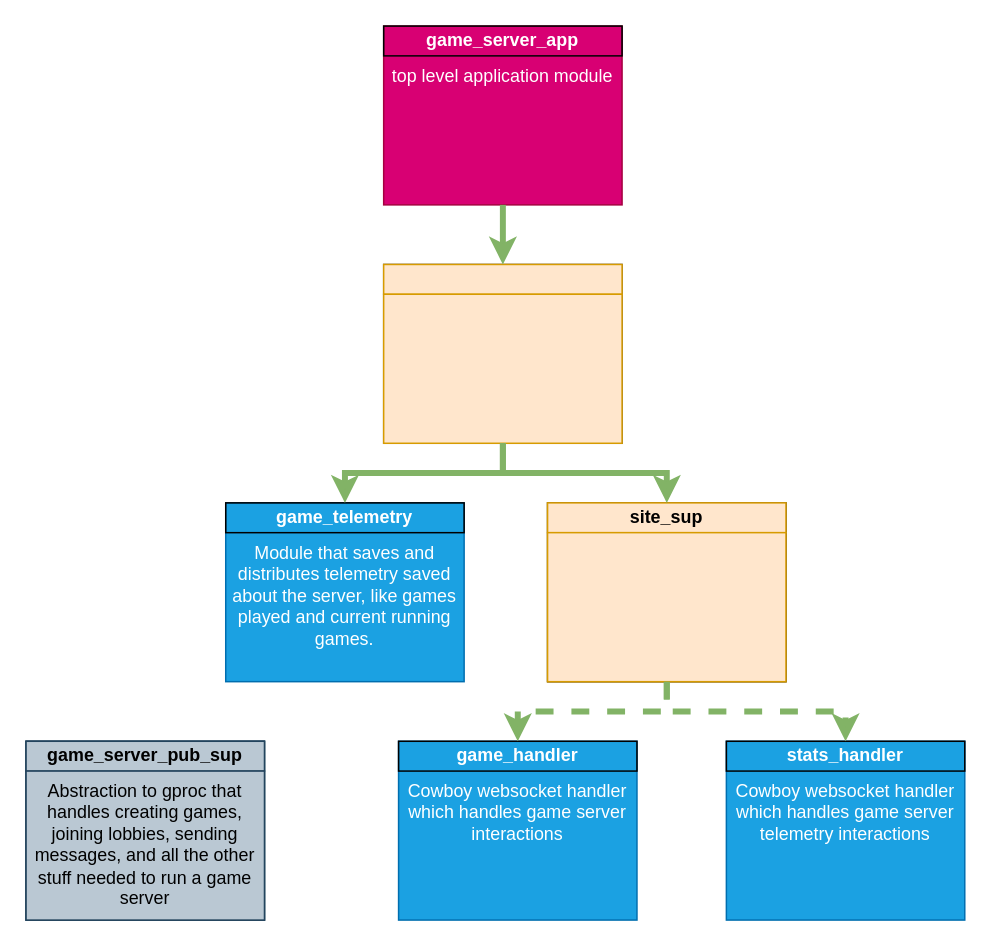
This 991x946 diagram has some shape labels left out. The shapes that lost their labels are listed below. From the top down, each one's centre as x and y in pixels, then its label:
pixel 502 278: game_server_sup
pixel 502 368: Top level supervisor
pixel 666 606: Supervisor that creates and monitors cowboy websocket connections
